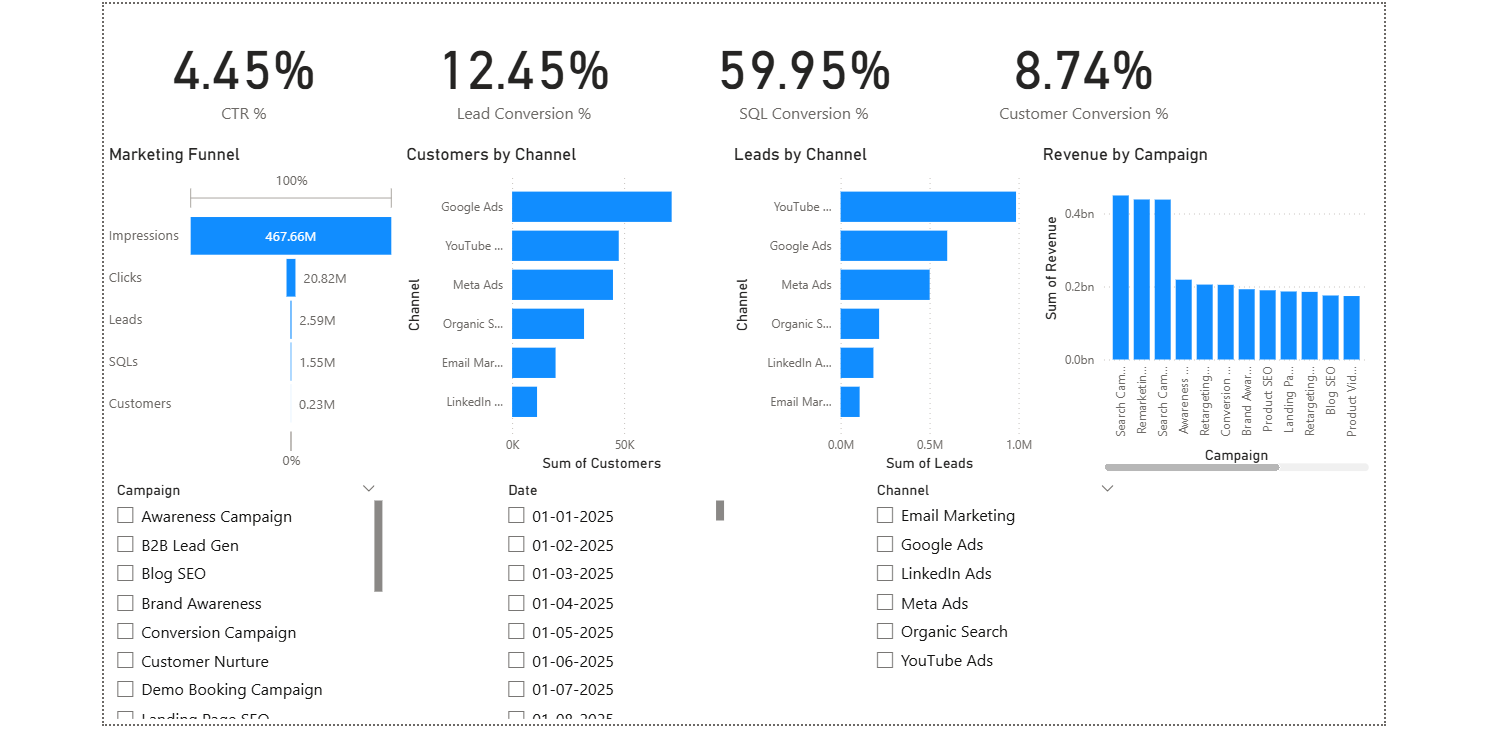

Layout of this report page (visuals, bound fields, positions):
{"tool":"powerbi","page":{"name":"Marketing Funnel Dashboard","canvas":[1280,720],"ordinal":1},"visuals":[{"type":"card","fields":{"Values":["Campaign_Data.CTR %"]},"box":[0,0,280,140],"z":0},{"type":"card","fields":{"Values":["Campaign_Data.Lead Conversion %"]},"box":[280,0,280,140],"z":1000},{"type":"card","fields":{"Values":["Campaign_Data.SQL Conversion %"]},"box":[560,0,280,140],"z":2000},{"type":"card","fields":{"Values":["Campaign_Data.Customer Conversion %"]},"box":[840,0,280,140],"z":3000},{"type":"funnel","title":"Marketing Funnel ","fields":{"Category":["FunnelStages.Stage"],"Y":["Campaign_Data.Funnel Value"]},"box":[0,140,297.5,332.5],"z":4000},{"type":"clusteredBarChart","title":"Customers by Channel","fields":{"Category":["Campaign_Data.Channel"],"Y":["Sum(Campaign_Data.Customers)"]},"box":[297.5,140,305,332.5],"z":5000},{"type":"clusteredBarChart","title":"Leads by Channel","fields":{"Category":["Campaign_Data.Channel"],"Y":["Sum(Campaign_Data.Leads)"]},"box":[625,140,308.8,332.5],"z":6000},{"type":"clusteredColumnChart","title":"Revenue by Campaign","fields":{"Category":["Campaign_Data.Campaign"],"Y":["Sum(Campaign_Data.Revenue)"]},"box":[933.8,140,336.2,332.5],"z":7000},{"type":"slicer","fields":{"Values":["Campaign_Data.Channel"]},"box":[760,472.5,262.5,247.5],"z":8000},{"type":"slicer","fields":{"Values":["Campaign_Data.Campaign"]},"box":[0,472.5,283.8,247.5],"z":9000},{"type":"slicer","fields":{"Values":["Campaign_Data.Date"]},"box":[391.2,472.5,233.8,247.5],"z":10000}]}

Visuals, with their boxes on the page's 1280x720 design canvas (x1, y1, x2, y2). These are canvas units, not pixel positions in the 1486x730 screenshot, which may show the page scaled, cropped or inside an application window:
card - Campaign_Data.CTR %: 0,0,280,140
card - Campaign_Data.Lead Conversion %: 280,0,560,140
card - Campaign_Data.SQL Conversion %: 560,0,840,140
card - Campaign_Data.Customer Conversion %: 840,0,1120,140
"Marketing Funnel " funnel: 0,140,298,472
"Customers by Channel" clusteredBarChart: 298,140,602,472
"Leads by Channel" clusteredBarChart: 625,140,934,472
"Revenue by Campaign" clusteredColumnChart: 934,140,1270,472
slicer - Campaign_Data.Channel: 760,472,1022,720
slicer - Campaign_Data.Campaign: 0,472,284,720
slicer - Campaign_Data.Date: 391,472,625,720
